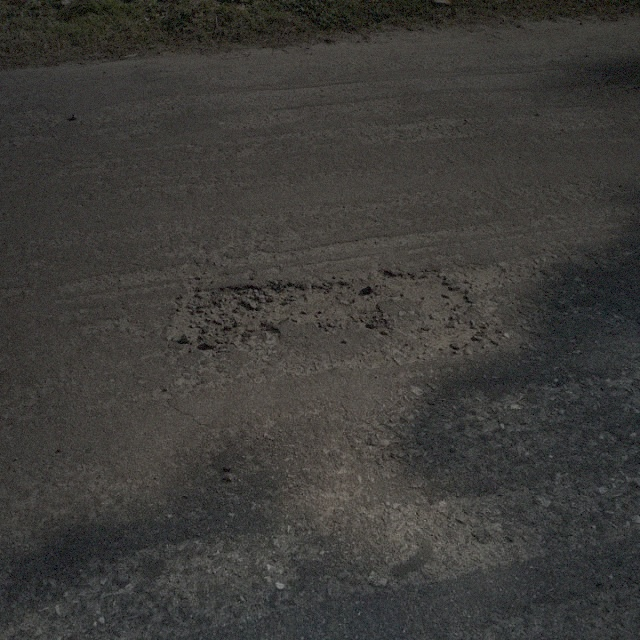pothole: (160, 265, 477, 352)
